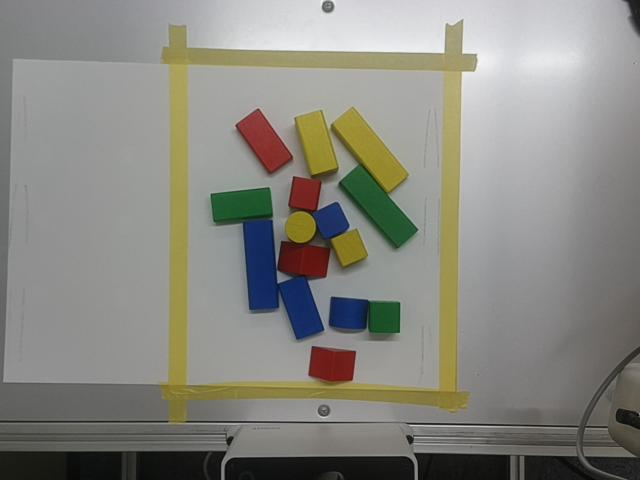blue_cube: (313, 202, 349, 238)
blue_longrect: (243, 220, 278, 310)
blue_rect: (279, 277, 323, 339)
cylinder: (285, 211, 316, 243)
green_cube: (368, 301, 400, 333)
green_longrect: (339, 165, 417, 247)
green_rect: (212, 188, 272, 223)
half_cylinder: (329, 297, 368, 329)
red_cube: (289, 177, 321, 211)
red_rect: (236, 109, 291, 173)
triangle: (279, 241, 328, 276), (309, 346, 354, 382)
yellow_cube: (330, 229, 367, 267)
yellow_longrect: (332, 108, 408, 192)
yelow_rect: (295, 110, 338, 176)
